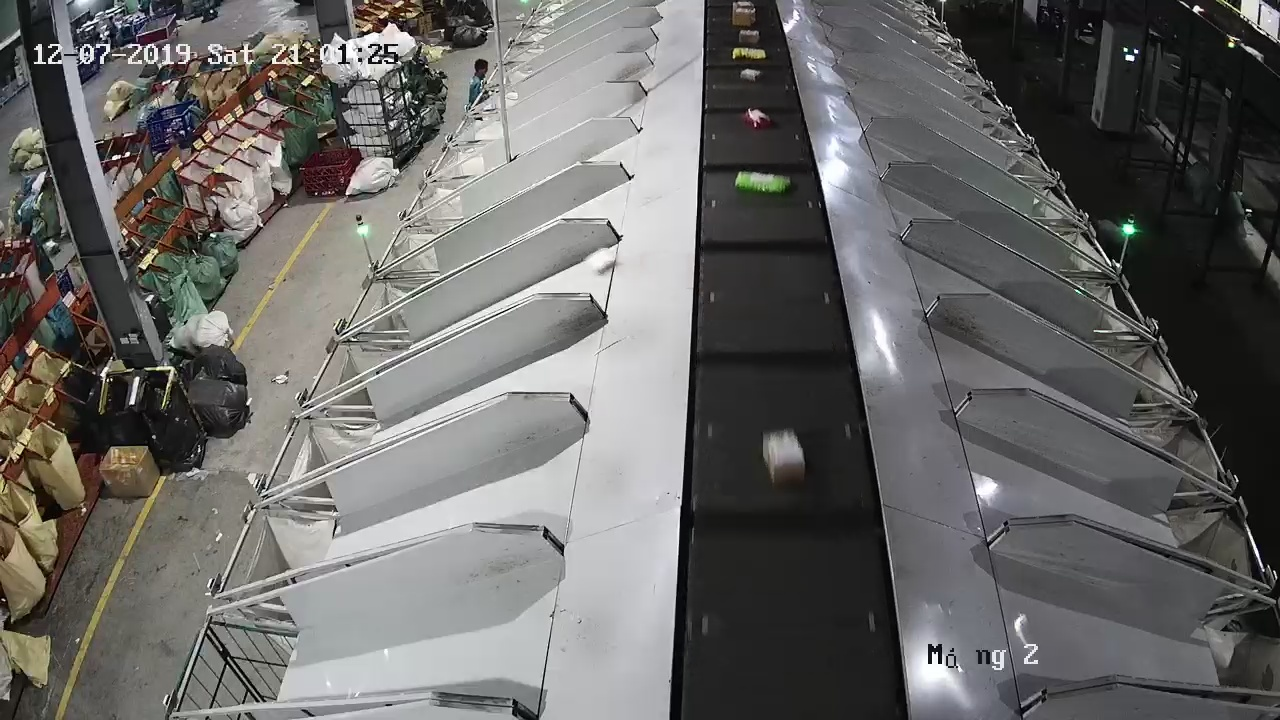parcel: (583, 246, 617, 275)
